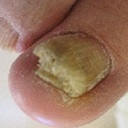Nail Fungal Infection: (31, 43, 90, 99)
